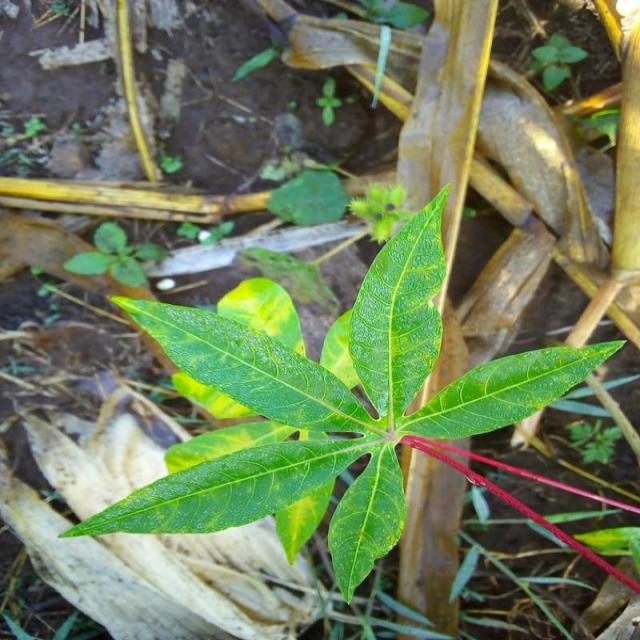cassava leaf: (57, 181, 628, 603), (108, 291, 382, 434), (348, 182, 450, 424), (326, 438, 408, 604)
